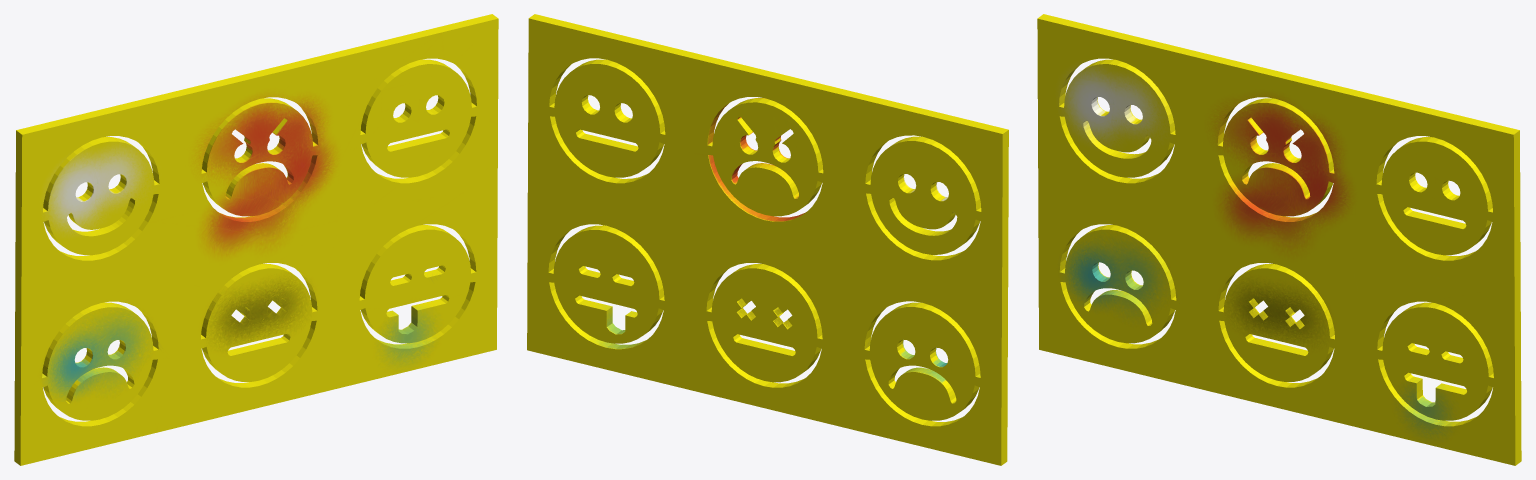
Rendered from quadro.fbx.
3 renders of one model, left to right at view 1: azimuth 30°, elevation 25°; view 2: azimuth 150°, elevation 25°; view 3: azimuth 330°, elevation 25°, orthographic.
Visible parts, largest first — view 1: node_id30; view 2: node_id30; view 3: node_id30.
Part boxes in pixels (x1,y1,x2,y2): node_id30: [14, 14, 498, 465]; node_id30: [527, 14, 1008, 465]; node_id30: [1037, 14, 1521, 465].
Size of the model in its own units: 0.512 by 0.3414 by 0.0144.
1 material, 1 textured.
